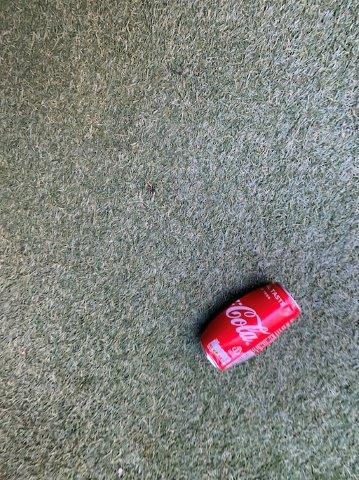kaleng: (200, 284, 300, 368)
